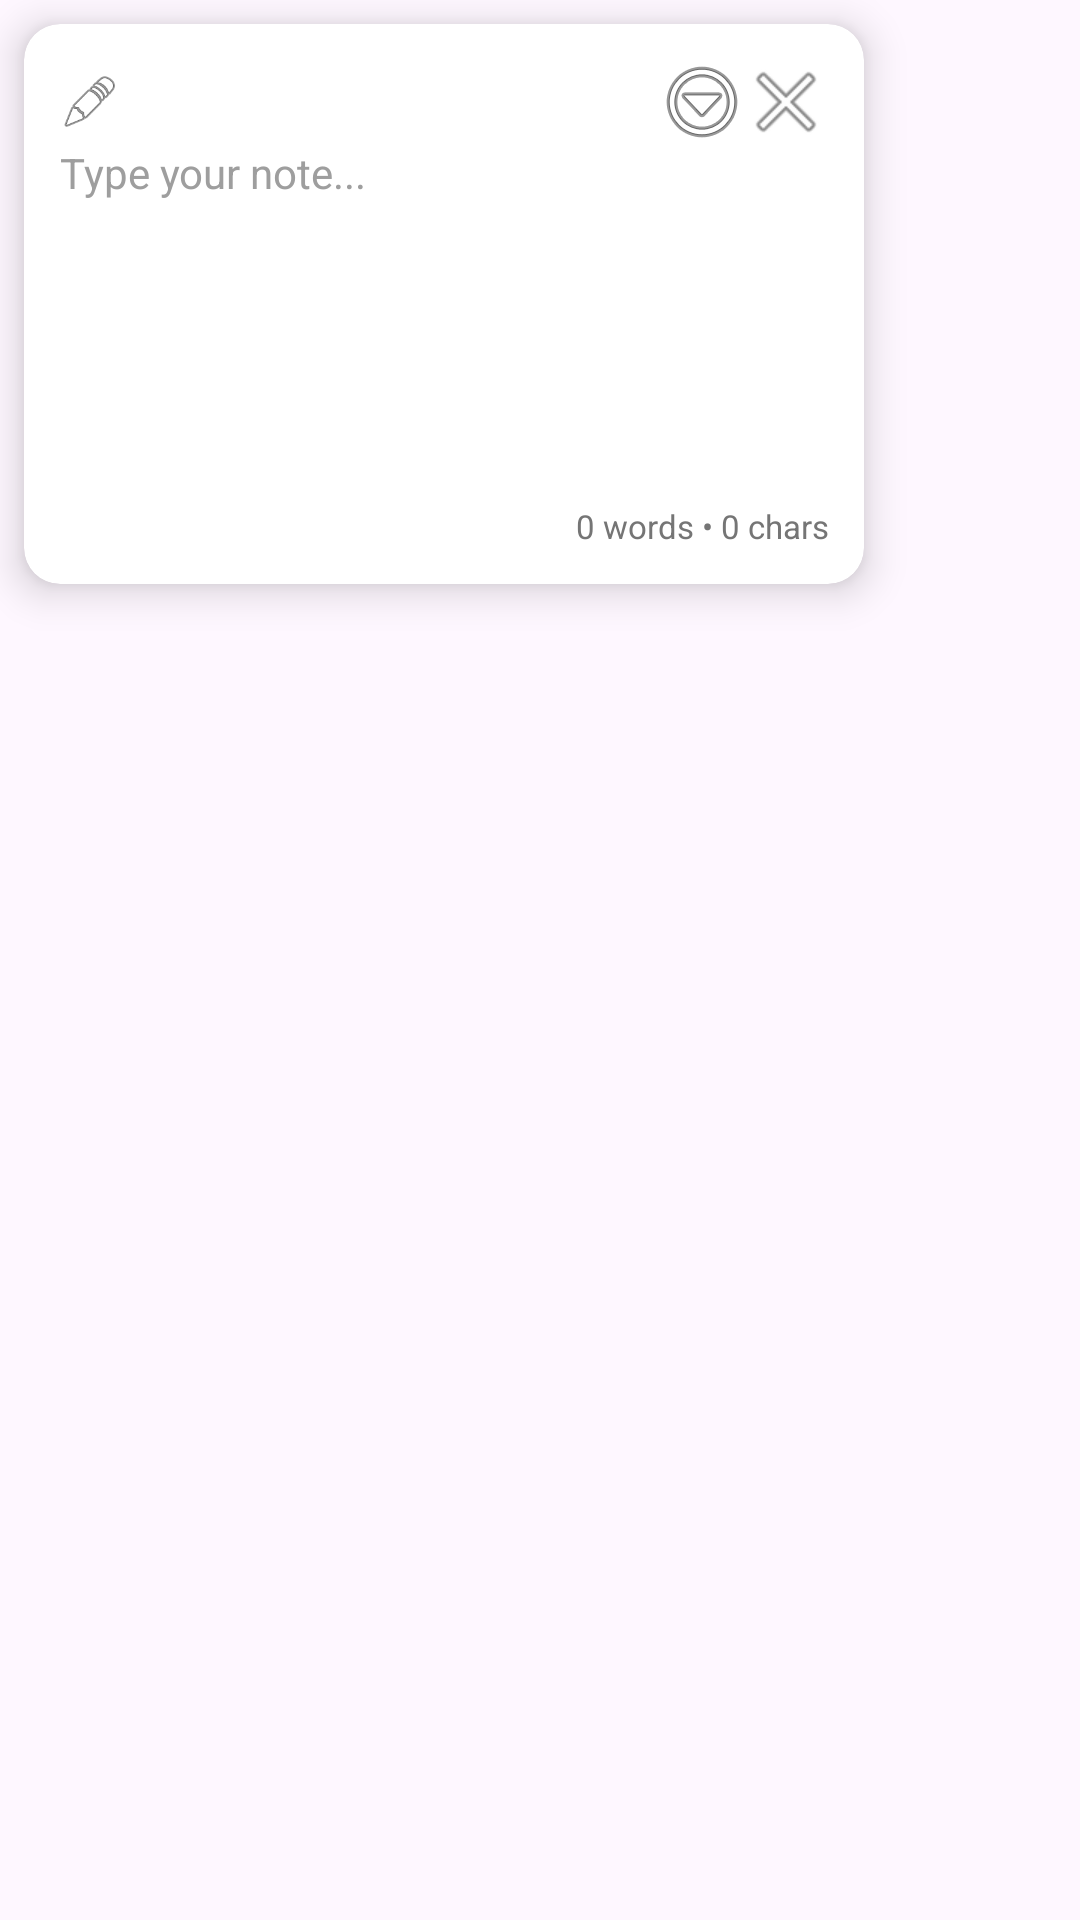

Icon bounding boxes for this 1080w x 1920h phone screenshot, format (x1, y1, x2, y2):
Close: (756, 72, 816, 132)
edit: (64, 76, 115, 127)
Menu: (666, 66, 738, 138)
